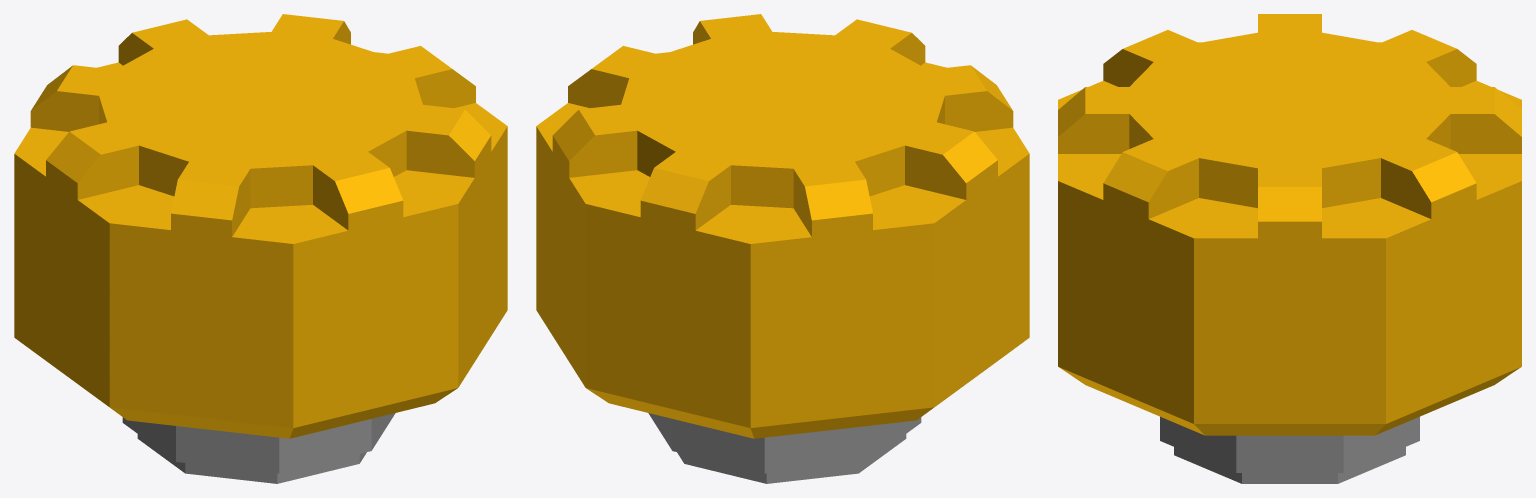
File: epe_motor_tiny.dae
3 renders of one model, left to right at view 1: azimuth 30°, elevation 25°; view 2: azimuth 150°, elevation 25°; view 3: azimuth 270°, elevation 25°, orthographic.
Parts seen in each view (by area): view 1: motor_tiny; view 2: motor_tiny; view 3: motor_tiny.
Boxes of the visible parts, left/top/right/bottom form: motor_tiny: left=14, top=14, right=507, bottom=483; motor_tiny: left=536, top=14, right=1029, bottom=483; motor_tiny: left=1058, top=14, right=1521, bottom=483.
Bounding box in the file's own units: 0.25 × 0.25 × 0.199.
